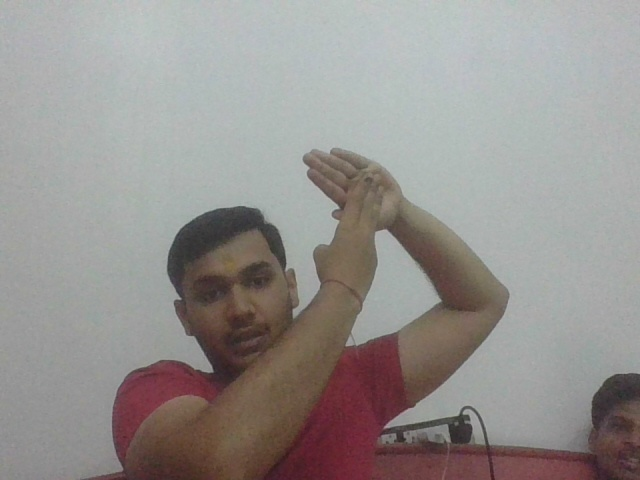M: (296, 144, 402, 269)
